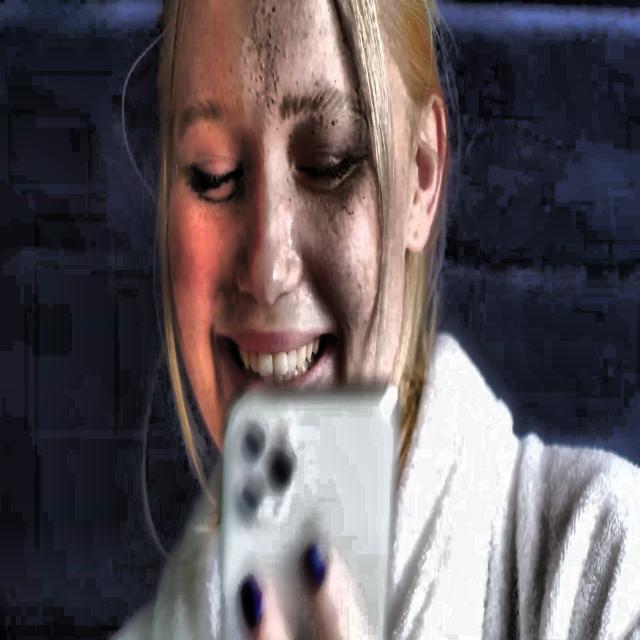Phone: (220, 382, 398, 640)
